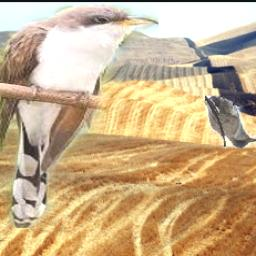Cuckoo: (0, 4, 160, 228), (205, 97, 256, 150)
